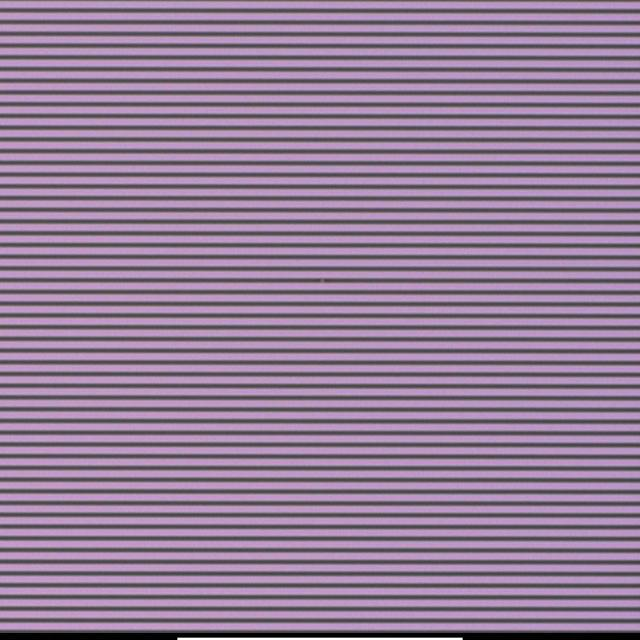03_intrusion: (319, 277, 329, 287)
